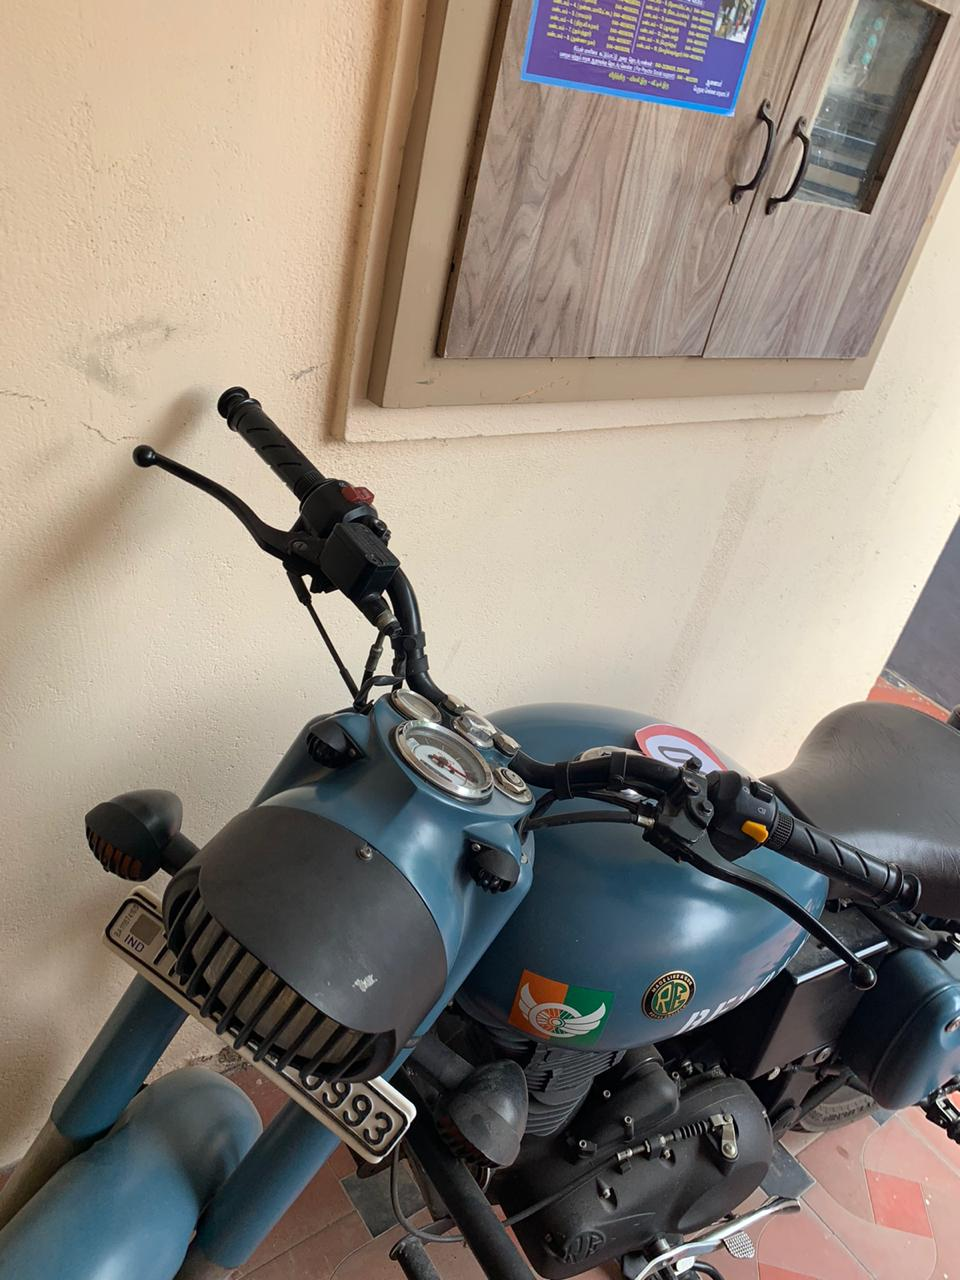SPEED LIMIT (60 KM/H): (629, 718, 728, 781)
